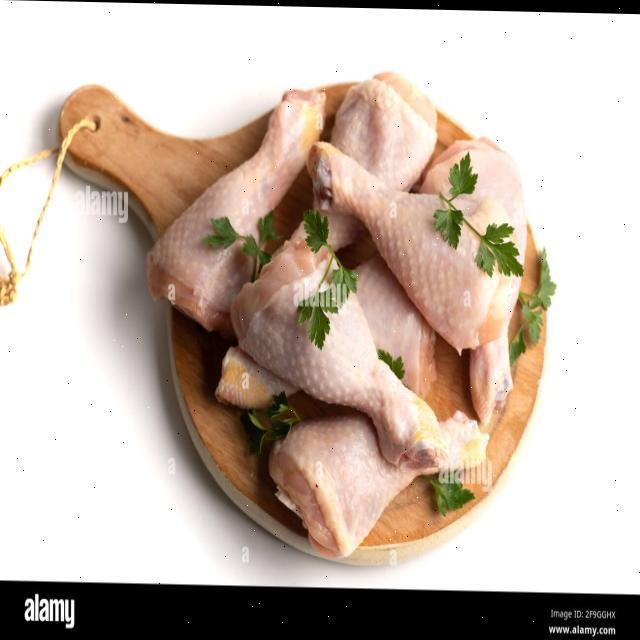leg: (314, 137, 510, 346), (149, 79, 313, 309), (209, 248, 432, 416), (255, 223, 420, 447), (284, 409, 483, 548), (432, 134, 524, 416), (320, 62, 430, 239)
